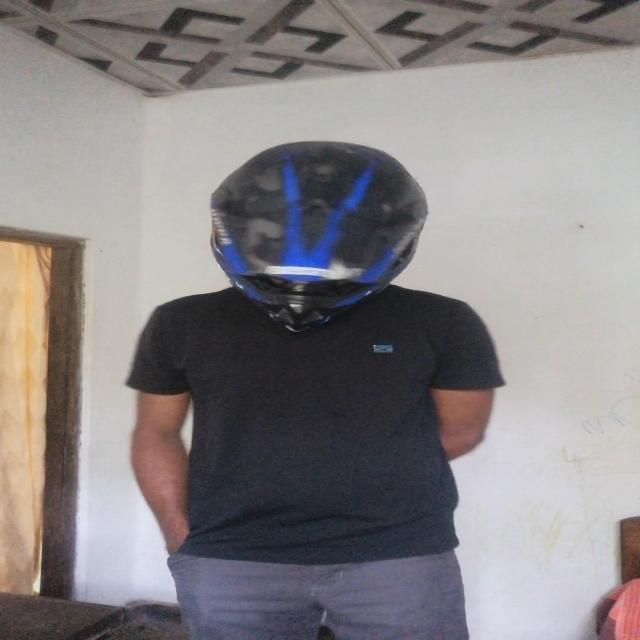Helmet_Wearer: (172, 129, 446, 305)
Person: (145, 141, 500, 640)
